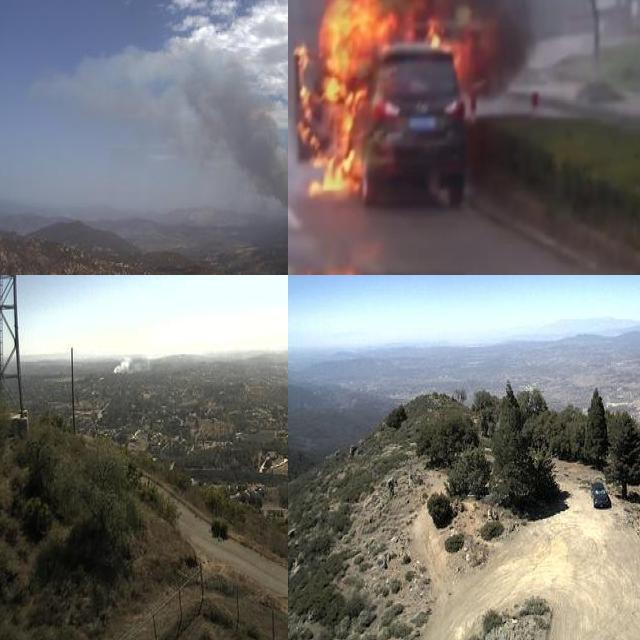fire: (294, 0, 479, 200)
smoke: (43, 31, 288, 229), (288, 0, 577, 94), (108, 345, 155, 375)
